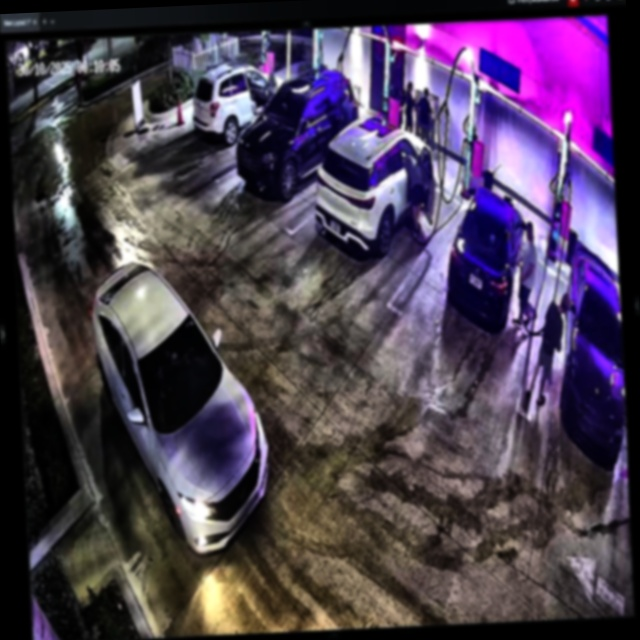Car: (88, 256, 274, 561), (312, 105, 440, 256), (232, 61, 362, 186), (442, 183, 533, 332), (189, 57, 290, 147)
